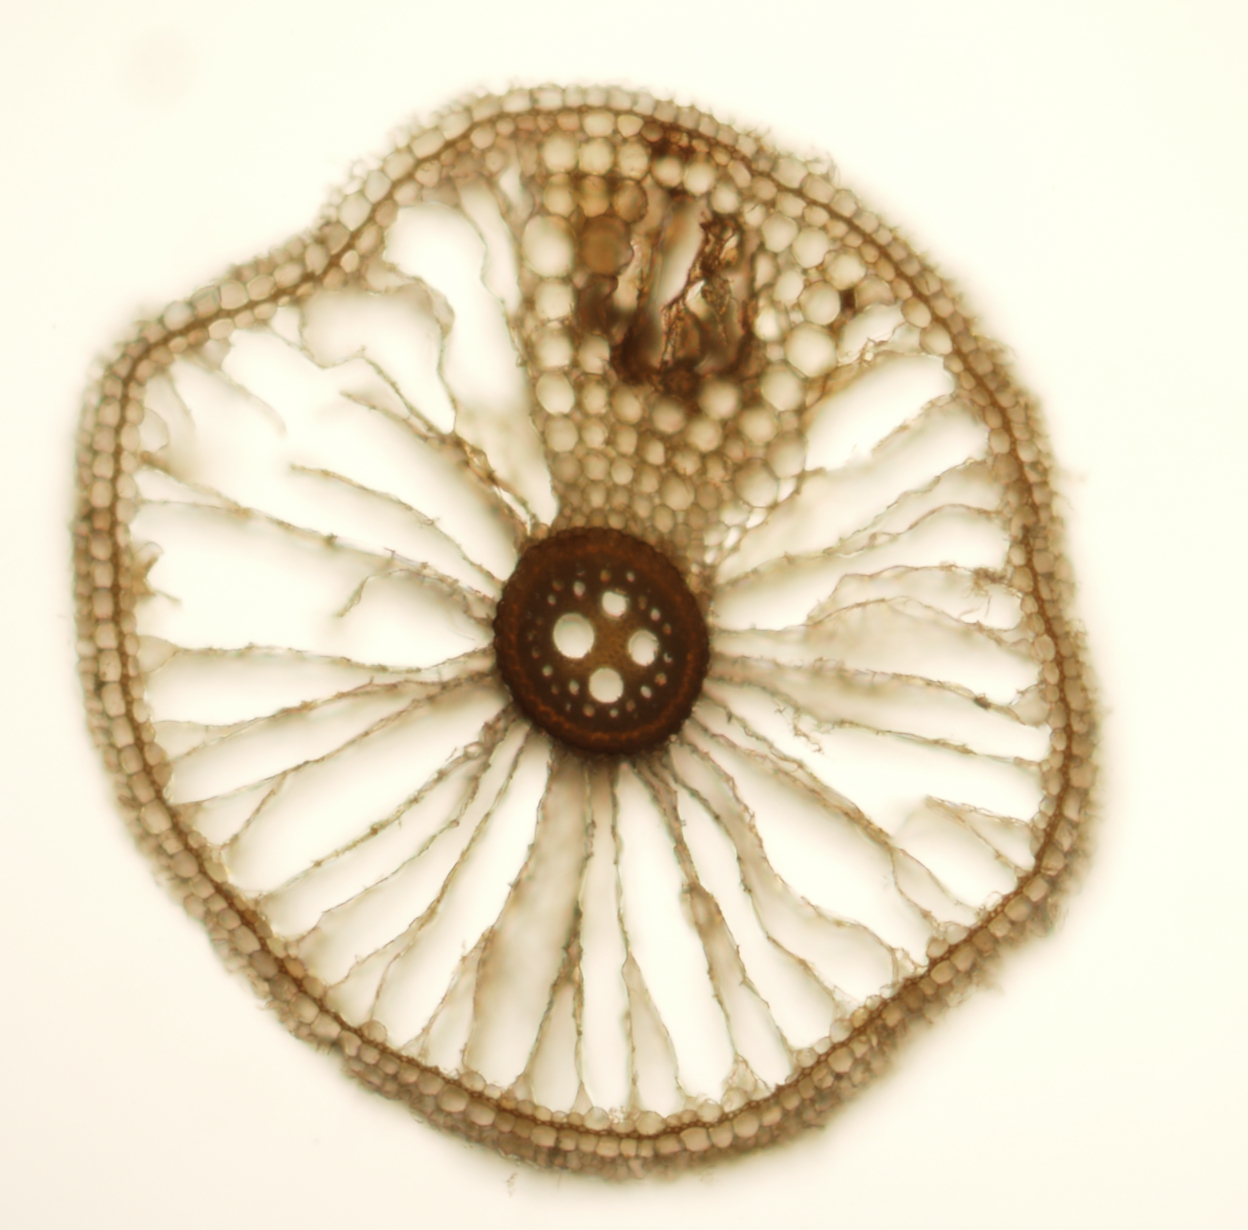lm: (553, 612, 595, 659), (588, 667, 624, 703), (627, 629, 659, 666), (601, 590, 627, 617)
